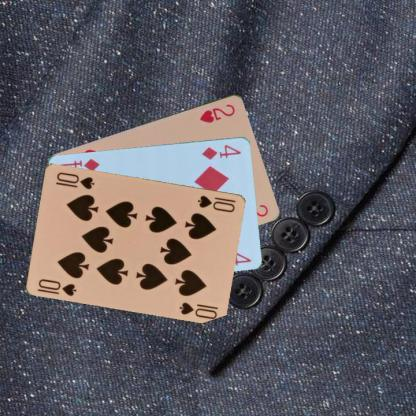10s: (195, 192, 238, 214), (36, 276, 78, 298)
2h: (197, 101, 236, 124)
4d: (199, 142, 242, 160)
